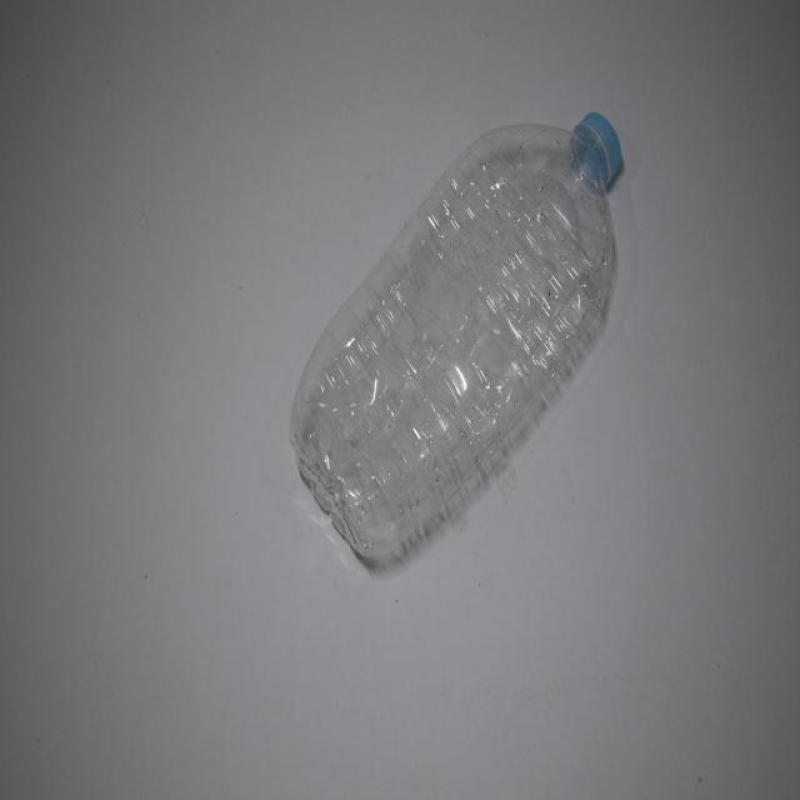botella: (285, 109, 626, 565)
